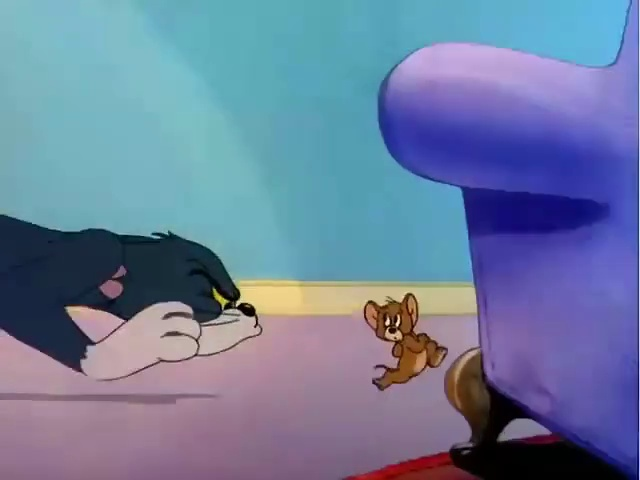jerry: (333, 277, 452, 393)
tom: (2, 200, 294, 400)
